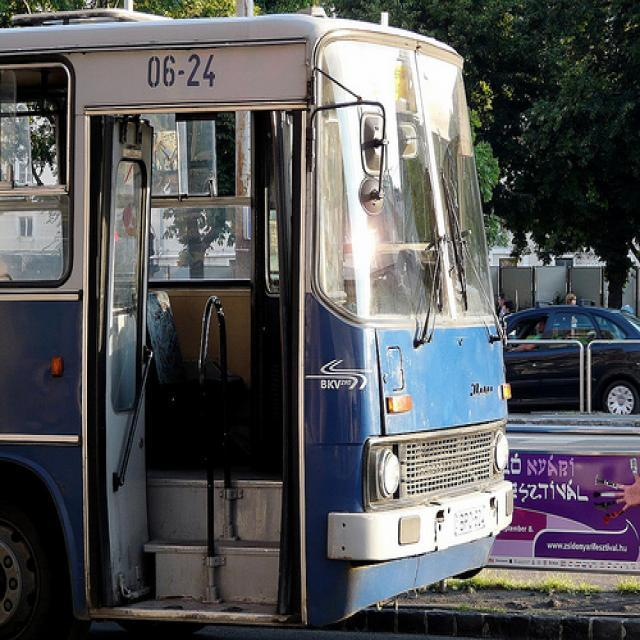bus: (0, 7, 515, 638)
